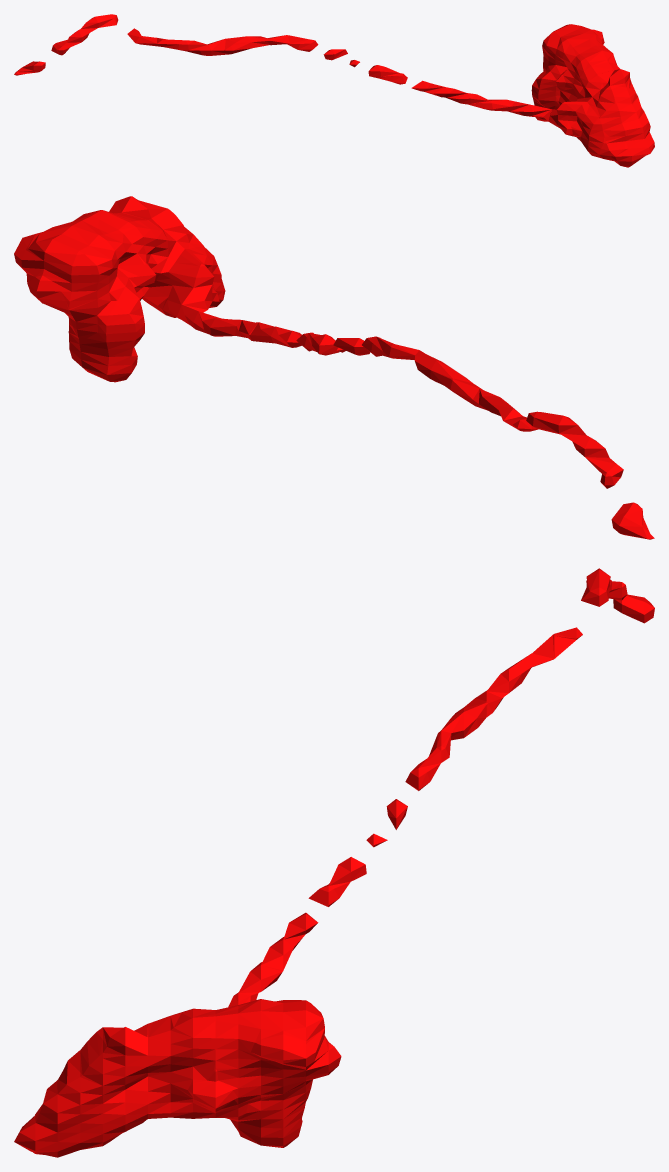
Rendered from zntA_coarse.dae.
The picture shows the model from 3 angles, top to bottom: view 1: azimuth 30°, elevation 25°; view 2: azimuth 150°, elevation 25°; view 3: azimuth 270°, elevation 25°; orthographic projection. The views are drawn at different scales.
Parts seen in each view (by area): view 1: zntA; view 2: zntA; view 3: zntA.
Part boxes in pixels (x1,y1,x2,y2): zntA: [14, 14, 654, 167]; zntA: [14, 196, 654, 539]; zntA: [14, 568, 654, 1157].
Bounding box in the file's own units: 364 × 93.09 × 223.
